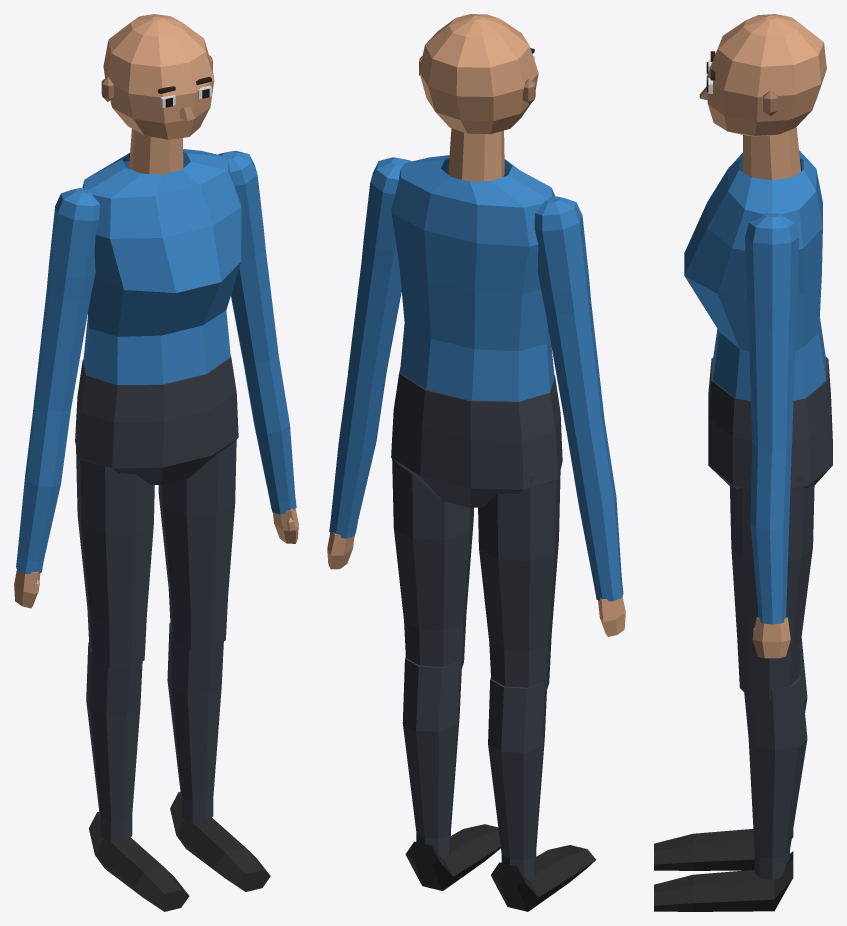
File: adulte_f_mince.glb
3 renders of one model, left to right at view 1: azimuth 30°, elevation 25°; view 2: azimuth 150°, elevation 25°; view 3: azimuth 270°, elevation 25°, orthographic. The views are drawn at different scales.
Visible parts, largest first — view 1: torse, bassin, jambe_d, tete, jambe_g, tibia_d, tibia_g, bras_d, avant_bras_d, bras_g, avant_bras_g; view 2: torse, bassin, jambe_d, tete, tibia_d, tibia_g, jambe_g, bras_d, bras_g, avant_bras_d, avant_bras_g; view 3: torse, tete, tibia_g, bras_g, jambe_g, bassin, avant_bras_g, tibia_d.
Part boxes in pixels (x1,y1,x2,y2): torse: [82, 149, 241, 384]; bassin: [75, 356, 238, 484]; jambe_d: [75, 434, 154, 668]; tete: [101, 14, 214, 174]; jambe_g: [158, 439, 236, 648]; tibia_d: [86, 642, 189, 911]; tibia_g: [167, 623, 270, 891]; bras_d: [33, 188, 99, 412]; avant_bras_d: [14, 405, 70, 608]; bras_g: [218, 150, 278, 365]; avant_bras_g: [242, 354, 298, 543]; torse: [391, 155, 555, 401]; bassin: [391, 368, 562, 507]; jambe_d: [478, 470, 560, 692]; tete: [419, 14, 538, 181]; tibia_d: [488, 678, 595, 911]; tibia_g: [402, 656, 500, 890]; jambe_g: [391, 443, 473, 671]; bras_d: [534, 196, 604, 434]; bras_g: [348, 157, 411, 383]; avant_bras_d: [566, 421, 625, 636]; avant_bras_g: [327, 374, 386, 569]; torse: [684, 150, 825, 400]; tete: [699, 14, 826, 180]; tibia_g: [654, 675, 807, 911]; bras_g: [745, 213, 799, 452]; jambe_g: [729, 476, 814, 700]; bassin: [708, 357, 832, 489]; avant_bras_g: [750, 444, 791, 658]; tibia_d: [654, 638, 807, 870].
Size of the model in its own units: 0.5655 by 1.63 by 0.3046.
1 material, 1 textured.
